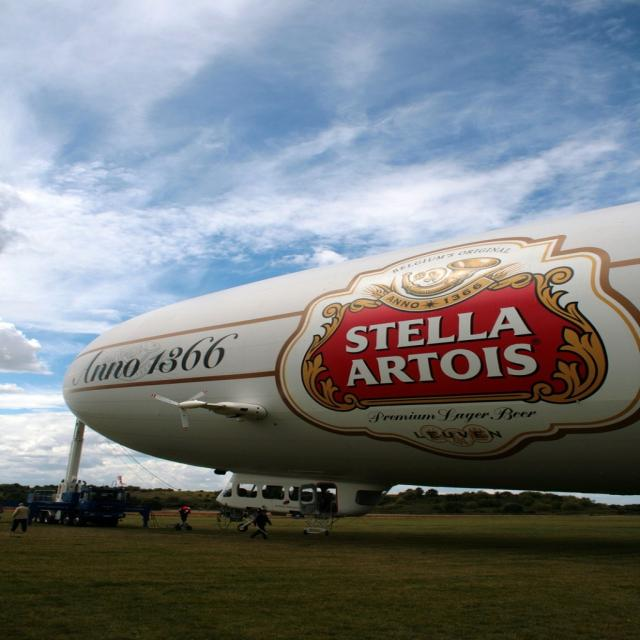stellaartois: (297, 254, 614, 418)
